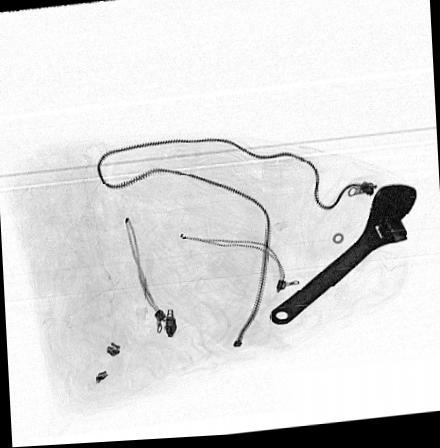Wrench: (269, 189, 418, 329)
